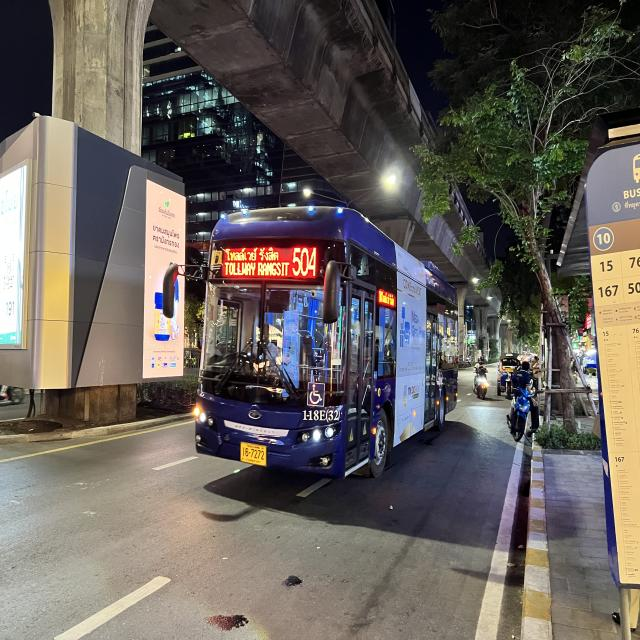Bus-Line-Number: (291, 246, 317, 280)
Destination-Sign-Normal: (223, 246, 291, 279)
TSB-Bus: (190, 197, 461, 484)
